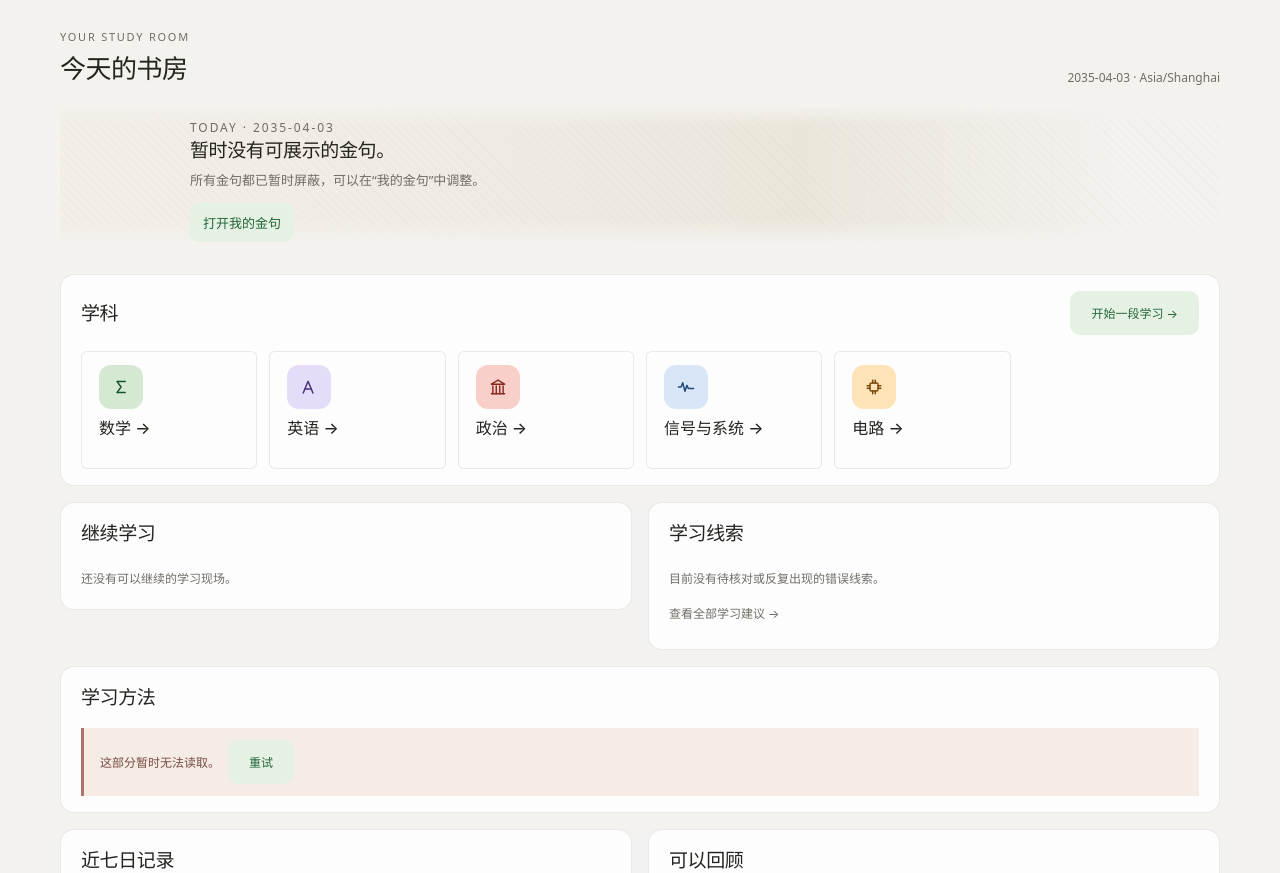
Test: HomePage › reloads the full home when an isolated retry crosses the account date or rule boundary
The width and height of the screenshot is (1280, 873).
Step 1. Click the button "重试" → (261, 762), box [228,740,294,784]
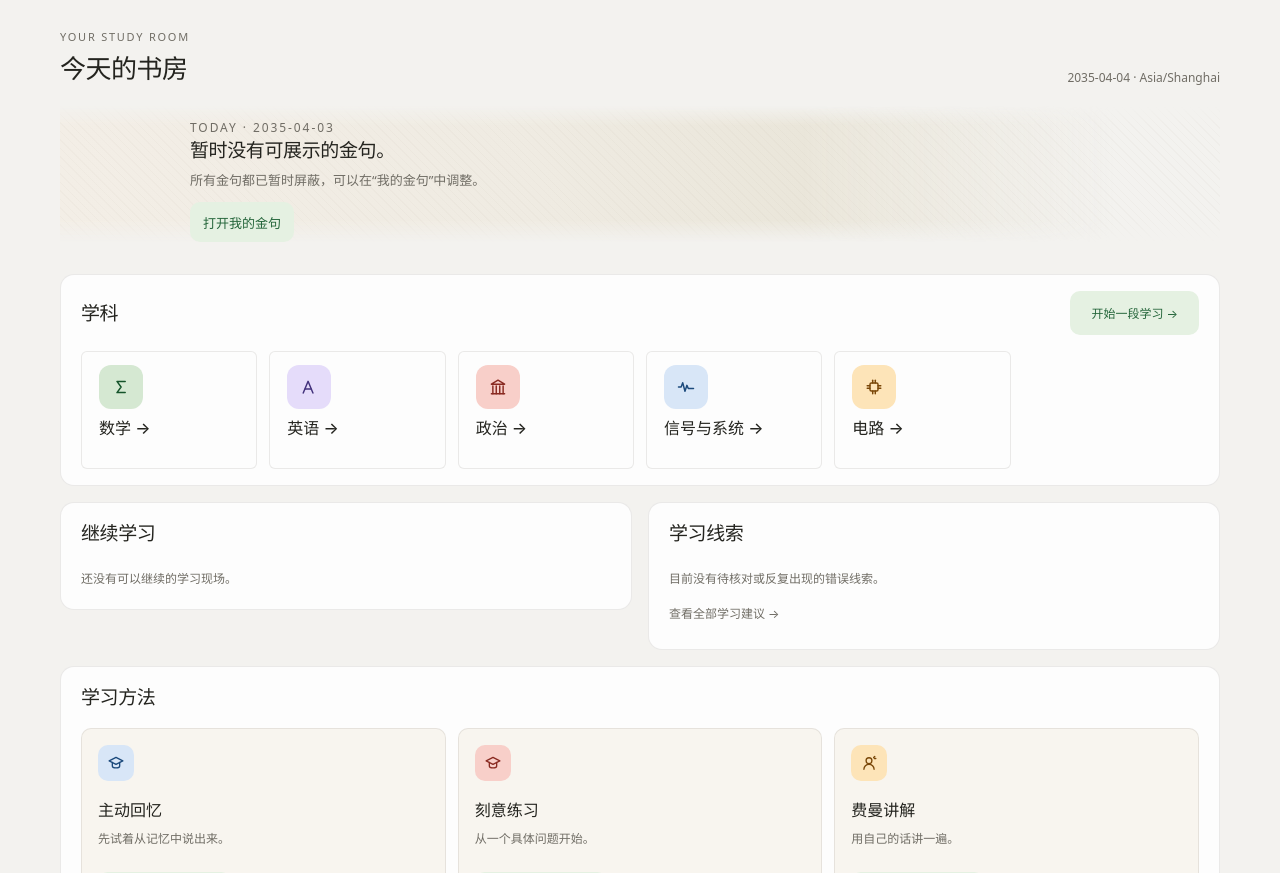
Check: the button "数学 →" is shown, box [81,351,257,469]
Check: the text "2035-04-04 · Asia/Shanghai" is shown, box [1067,69,1220,86]
